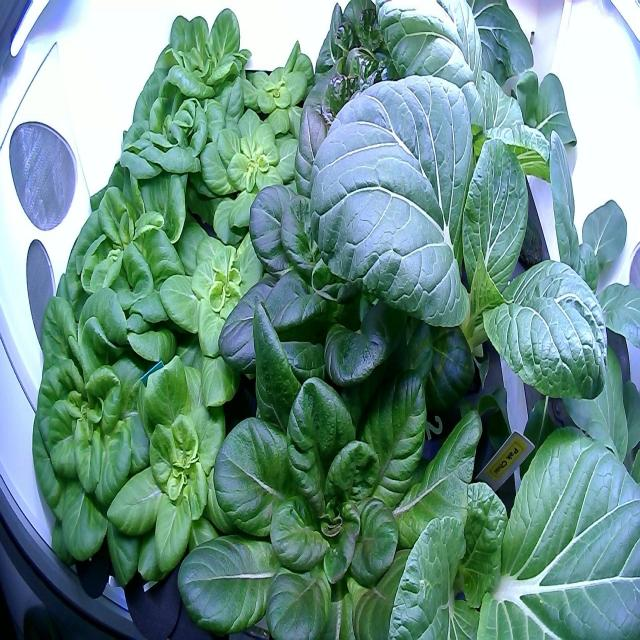Ready: (168, 282, 520, 639), (218, 98, 490, 448), (25, 282, 184, 593), (39, 157, 216, 368), (112, 72, 230, 225), (311, 0, 418, 109), (150, 1, 254, 107)
young: (100, 350, 272, 600), (158, 200, 294, 414), (194, 96, 320, 256), (230, 32, 322, 134)
